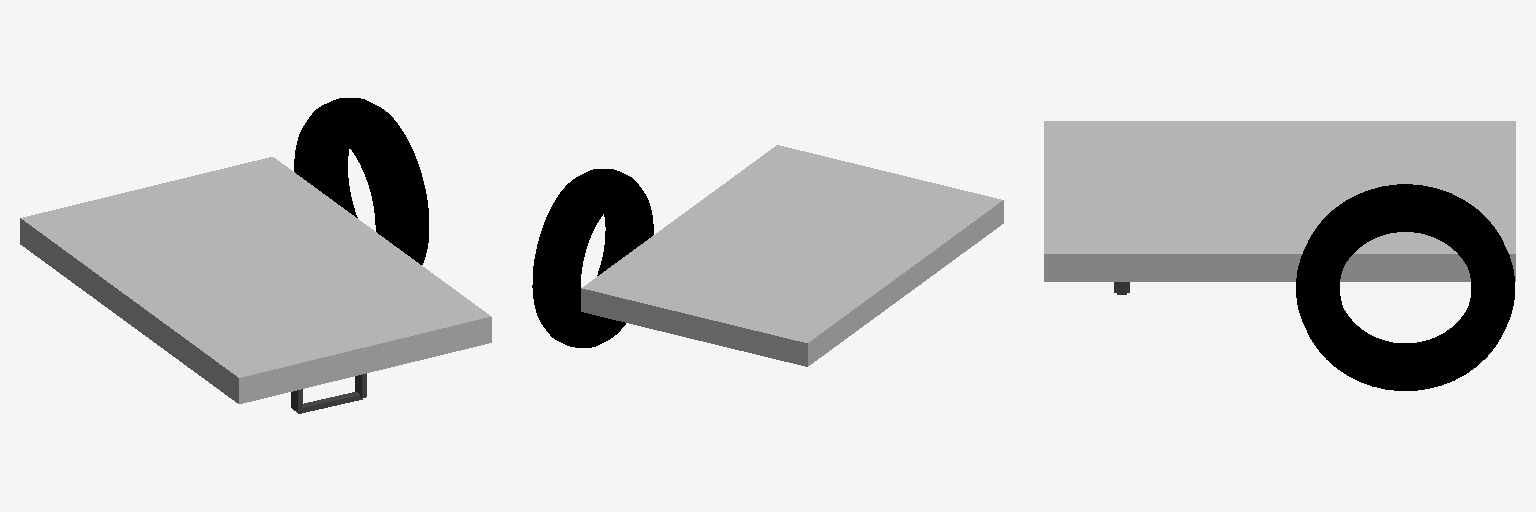
URDF robot description (AUTO):
<?xml version="1.0"?>
<!-- created with Phobos 1.0.1 "Capricious Choutengan" -->
  <robot name="AUTO">

    <link name="Untitled">
      <inertial>
        <origin xyz="0 0 0" rpy="0 0 0"/>
        <mass value="0.1"/>
        <inertia ixx="2e-05" ixy="0" ixz="0" iyy="2e-05" iyz="0" izz="2e-05"/>
      </inertial>
      <visual name="Cube">
        <origin xyz="0 0 0" rpy="0 0 0"/>
        <geometry>
          <box size="0.1 0.15 0.01"/>
        </geometry>
        <material name="Material.010"/>
      </visual>
      <collision name="Cube">
        <origin xyz="0 0 0" rpy="0 0 0"/>
        <geometry>
          <box size="0.1 0.15 0.01"/>
        </geometry>
      </collision>
    </link>

    <link name="Untitled.001">
      <inertial>
        <origin xyz="0 0 0" rpy="0 0 0"/>
        <mass value="0.05"/>
        <inertia ixx="2e-05" ixy="0" ixz="0" iyy="2e-05" iyz="0" izz="2e-05"/>
      </inertial>
      <visual name="Torus.002">
        <origin xyz="0 0 0" rpy="0 0 0"/>
        <geometry>
          <mesh filename="Torus.002.stl" scale="0.028 0.028 0.04"/>
        </geometry>
        <material name="Material.009"/>
      </visual>
      <collision name="Torus.002.000">
        <origin xyz="0 0 0" rpy="0 0 0"/>
        <geometry>
          <mesh filename="Torus.003.stl" scale="1.0 1.0 1.0"/>
        </geometry>
      </collision>
    </link>

    <link name="Untitled.002">
      <inertial>
        <origin xyz="0 0 0" rpy="0 0 0"/>
        <mass value="0.05"/>
        <inertia ixx="2e-05" ixy="0" ixz="0" iyy="2e-05" iyz="0" izz="2e-05"/>
      </inertial>
      <visual name="Torus">
        <origin xyz="0 0 0" rpy="0 -3.14159 0.86538"/>
        <geometry>
          <mesh filename="Torus.stl" scale="0.028 0.028 0.04"/>
        </geometry>
        <material name="Material.002"/>
      </visual>
      <collision name="Torus.000">
        <origin xyz="0 0 0" rpy="0 3.14159 0.86538"/>
        <geometry>
          <mesh filename="Torus.004.stl" scale="1.0 1.0 1.0"/>
        </geometry>
      </collision>
    </link>

    <link name="Untitled.003">
      <inertial>
        <origin xyz="0 0 0" rpy="0 0 0"/>
        <mass value="0.01"/>
        <inertia ixx="2e-05" ixy="0" ixz="0" iyy="2e-05" iyz="0" izz="2e-05"/>
      </inertial>
      <visual name="Cylinder">
        <origin xyz="0 0 0" rpy="0 0 0"/>
        <geometry>
          <cylinder radius="0.005" length="0.005"/>
        </geometry>
        <material name="Material.011"/>
      </visual>
      <collision name="Cylinder">
        <origin xyz="0 0 0" rpy="0 0 0"/>
        <geometry>
          <cylinder radius="0.005" length="0.005"/>
        </geometry>
      </collision>
    </link>

    <link name="Untitled.004">
      <inertial>
        <origin xyz="0 0 0" rpy="0 0 0"/>
        <mass value="0.01"/>
        <inertia ixx="2e-05" ixy="0" ixz="0" iyy="2e-05" iyz="0" izz="2e-05"/>
      </inertial>
      <visual name="Cube.004">
        <origin xyz="0 0 0" rpy="0 0 -0.02806"/>
        <geometry>
          <box size="0.025 0.01 0.002"/>
        </geometry>
        <material name="Material.006"/>
      </visual>
      <collision name="Cube.004">
        <origin xyz="0 0 0" rpy="0 0 -0.02806"/>
        <geometry>
          <box size="0.025 0.01 0.002"/>
        </geometry>
      </collision>
    </link>

    <link name="Untitled.005">
      <inertial>
        <origin xyz="0 0 -0.0065" rpy="0 0 0"/>
        <mass value="0.01"/>
        <inertia ixx="2e-05" ixy="0" ixz="0" iyy="2e-05" iyz="0" izz="2e-05"/>
      </inertial>
      <visual name="Cube.001">
        <origin xyz="0 0 -0.0065" rpy="0 1.5708 0"/>
        <geometry>
          <box size="0.013 0.005 0.002"/>
        </geometry>
        <material name="Material.012"/>
      </visual>
      <collision name="Cube.001">
        <origin xyz="0 0 -0.0065" rpy="0 1.5708 0"/>
        <geometry>
          <box size="0.013 0.005 0.002"/>
        </geometry>
      </collision>
    </link>

    <link name="Untitled.006">
      <inertial>
        <origin xyz="0 0 -0.0065" rpy="0 0 0"/>
        <mass value="0.01"/>
        <inertia ixx="2e-05" ixy="0" ixz="0" iyy="2e-05" iyz="0" izz="3e-05"/>
      </inertial>
      <visual name="Cube.003">
        <origin xyz="0 0 -0.0065" rpy="0 1.5708 0"/>
        <geometry>
          <box size="0.013 0.005 0.002"/>
        </geometry>
        <material name="Material.008"/>
      </visual>
      <collision name="Cube.003">
        <origin xyz="0 0 -0.0065" rpy="0 1.5708 0"/>
        <geometry>
          <box size="0.013 0.005 0.002"/>
        </geometry>
      </collision>
    </link>

    <link name="Untitled.007">
      <inertial>
        <origin xyz="0.01 0 0" rpy="0 0 0"/>
        <mass value="0.01"/>
        <inertia ixx="2e-05" ixy="0" ixz="0" iyy="2e-05" iyz="0" izz="2e-05"/>
      </inertial>
      <visual name="Cube.002">
        <origin xyz="0.01 0 0" rpy="0 0 0"/>
        <geometry>
          <box size="0.025 0.003 0.002"/>
        </geometry>
        <material name="Material.013"/>
      </visual>
      <collision name="Cube.002">
        <origin xyz="0.01 0 0" rpy="0 0 0"/>
        <geometry>
          <box size="0.025 0.003 0.002"/>
        </geometry>
      </collision>
    </link>

    <link name="Untitled.008">
      <inertial>
        <origin xyz="0 0 0" rpy="0 0 0"/>
        <mass value="0.01"/>
        <inertia ixx="2e-05" ixy="0" ixz="0" iyy="2e-05" iyz="0" izz="2e-05"/>
      </inertial>
      <visual name="Torus.001">
        <origin xyz="0 0 0" rpy="0 0 0"/>
        <geometry>
          <mesh filename="Torus.001.stl" scale="0.0072 0.0072 0.03"/>
        </geometry>
        <material name="Material.003"/>
      </visual>
      <collision name="Torus.001.000">
        <origin xyz="0 0 0" rpy="0 0 0"/>
        <geometry>
          <mesh filename="Torus.005.stl" scale="1.0 1.0 1.0"/>
        </geometry>
      </collision>
    </link>

    <joint name="Untitled.001" type="continuous">
      <origin xyz="-0.065 0.04 0" rpy="0 1.5708 0"/>
      <parent link="Untitled"/>
      <child link="Untitled.001"/>
      <axis xyz="0 0 1.0"/>
      <limit effort="10.0" velocity="32.0"/>
    </joint>

    <joint name="Untitled.002" type="continuous">
      <origin xyz="0.065 0.04 0" rpy="0 1.5708 0"/>
      <parent link="Untitled"/>
      <child link="Untitled.002"/>
      <axis xyz="0 0 1.0"/>
      <limit effort="10.0" velocity="32.0"/>
    </joint>

    <joint name="Untitled.003" type="fixed">
      <origin xyz="0 -0.05 -0.009" rpy="0 0 0"/>
      <parent link="Untitled"/>
      <child link="Untitled.003"/>
    </joint>

    <joint name="Untitled.004" type="revolute">
      <origin xyz="0 0 -0.004" rpy="0 0 0"/>
      <parent link="Untitled.003"/>
      <child link="Untitled.004"/>
      <axis xyz="0 0 1.0"/>
      <limit lower="-1.57" upper="1.57" effort="2.0" velocity="10.0"/>
    </joint>

    <joint name="Untitled.005" type="fixed">
      <origin xyz="0.0125 -0.00035 0" rpy="0 0 -0.02806"/>
      <parent link="Untitled.004"/>
      <child link="Untitled.005"/>
    </joint>

    <joint name="Untitled.006" type="fixed">
      <origin xyz="-0.0125 0.00035 0" rpy="0 0 -0.02806"/>
      <parent link="Untitled.004"/>
      <child link="Untitled.006"/>
    </joint>

    <joint name="Untitled.007" type="fixed">
      <origin xyz="0.0025 0 -0.013" rpy="0 0 0"/>
      <parent link="Untitled.006"/>
      <child link="Untitled.007"/>
    </joint>

    <joint name="Untitled.008" type="continuous">
      <origin xyz="0.01 0 0" rpy="0 1.5708 0"/>
      <parent link="Untitled.007"/>
      <child link="Untitled.008"/>
      <axis xyz="0 0 1.0"/>
      <limit effort="30" velocity="250"/>
    </joint>

    <material name="Material.002">
      <color rgba="0 0 0 1.0"/>
    </material>

    <material name="Material.003">
      <color rgba="0 0 0 1.0"/>
    </material>

    <material name="Material.006">
      <color rgba="0.32 0.32 0.32 1.0"/>
    </material>

    <material name="Material.008">
      <color rgba="0.32 0.32 0.32 1.0"/>
    </material>

    <material name="Material.009">
      <color rgba="0 0 0 1.0"/>
    </material>

    <material name="Material.010">
      <color rgba="0.8 0.8 0.8 1.0"/>
    </material>

    <material name="Material.011">
      <color rgba="0.32 0.32 0.32 1.0"/>
    </material>

    <material name="Material.012">
      <color rgba="0.32 0.32 0.32 1.0"/>
    </material>

    <material name="Material.013">
      <color rgba="0.32 0.32 0.32 1.0"/>
    </material>

  </robot>

--- What the picture shows (computed from the rendered views, not written in the file) ---
The picture shows the robot from 3 angles, left to right: view 1: azimuth 30°, elevation 25°; view 2: azimuth 150°, elevation 25°; view 3: azimuth 270°, elevation 25°; orthographic projection.
Model AUTO with 9 links and 8 joints (1 revolute, 3 continuous, 4 fixed), rooted at Untitled, posed every joint at zero.
Links seen in each view (by area): view 1: Untitled, Untitled.002, Untitled.007; view 2: Untitled, Untitled.002; view 3: Untitled, Untitled.002.
Boxes of the visible links, x1,y1,x2,y2 form: Untitled: (20,157,491,403); Untitled.002: (294,98,428,264); Untitled.007: (298,392,362,413); Untitled: (581,145,1003,366); Untitled.002: (532,169,653,347); Untitled: (1044,121,1515,281); Untitled.002: (1296,184,1514,390).
Bounding box of the posed robot: 0.125 × 0.15 × 0.0699 m (x, y, z).
1 mesh visuals loaded from 3 distinct referenced files (1 binary STL); not drawn: 2 (reference not matched to a file when rendering).